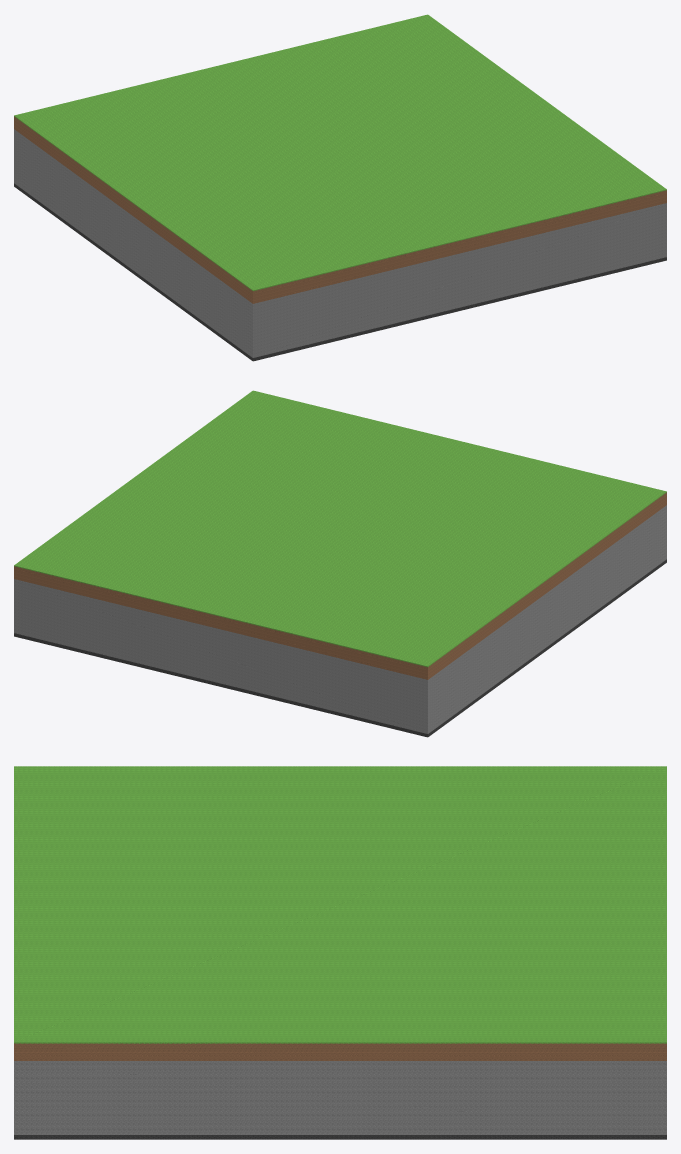
Rendered from etape3b.glb.
3 renders of one model, top to bottom at view 1: azimuth 30°, elevation 25°; view 2: azimuth 150°, elevation 25°; view 3: azimuth 270°, elevation 25°, orthographic. The views are drawn at different scales.
Parts seen in each view (by area): view 1: world; view 2: world; view 3: world.
Part boxes in pixels (left/top/right/bottom): world: left=14, top=14, right=666, bottom=361; world: left=14, top=390, right=666, bottom=737; world: left=14, top=766, right=666, bottom=1139.
Size of the model in its own units: 128 by 21 by 128.
Materials: 5 (5 with a texture image).
